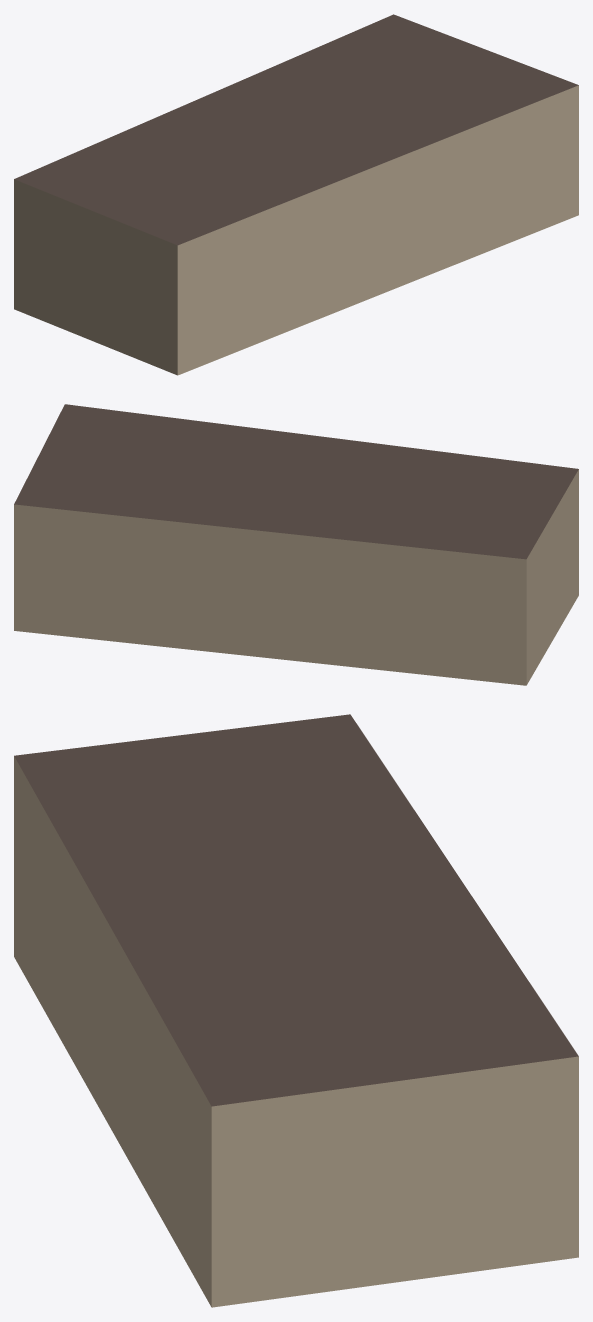
3 renders of one model, top to bottom at view 1: azimuth 30°, elevation 25°; view 2: azimuth 150°, elevation 25°; view 3: azimuth 270°, elevation 25°, orthographic. The views are drawn at different scales.
Visible parts, largest first — view 1: HP-w1516161898; view 2: HP-w1516161898; view 3: HP-w1516161898.
Boxes of the visible parts, <box> form: HP-w1516161898: <box>14,14,578,375</box>; HP-w1516161898: <box>14,404,578,685</box>; HP-w1516161898: <box>14,714,578,1307</box>.
Size of the model in its own units: 37.65 by 9 by 22.92.
